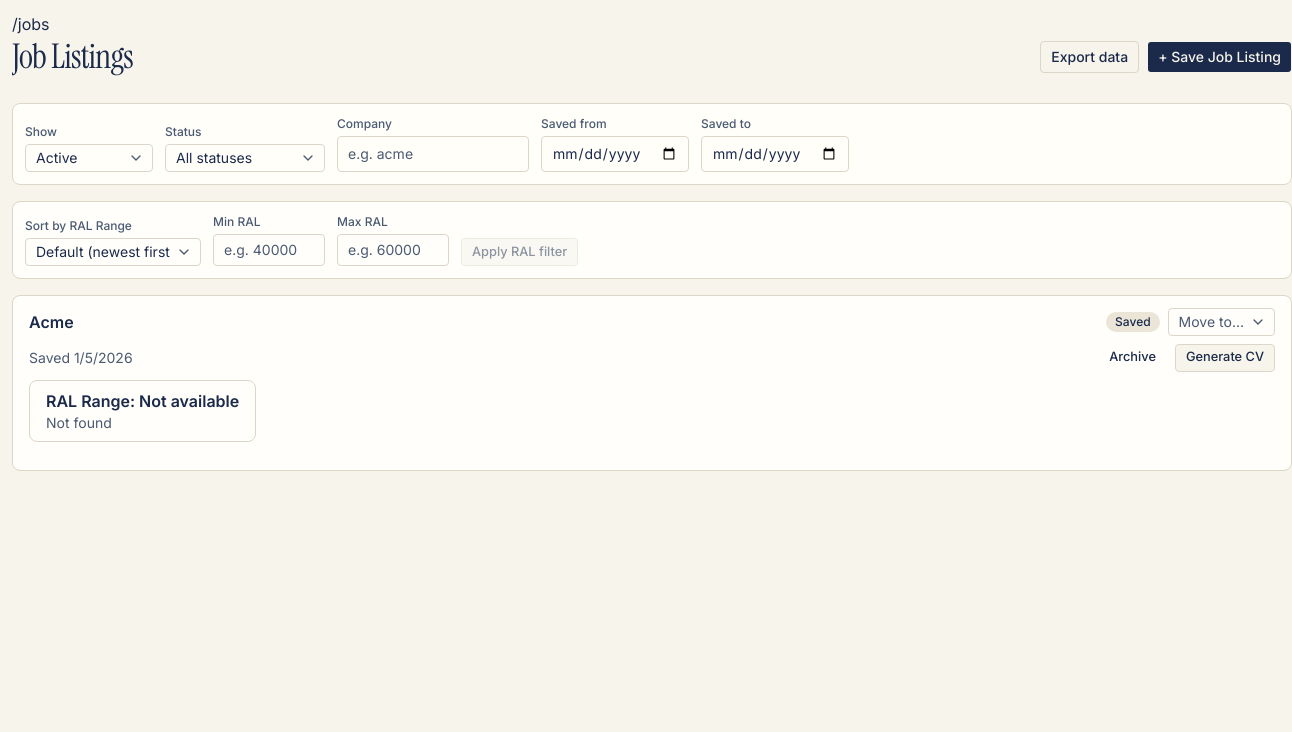
Test: Application Status transitions from the Job Listings list › StatusChange_UpdateFails_SurfacesTheErrorAndLeavesTheShownStatusUnchanged
Click the dropdown named "Move Acme to a new status" at (1221, 322), box x1=1168 y1=308 x2=1275 y2=336
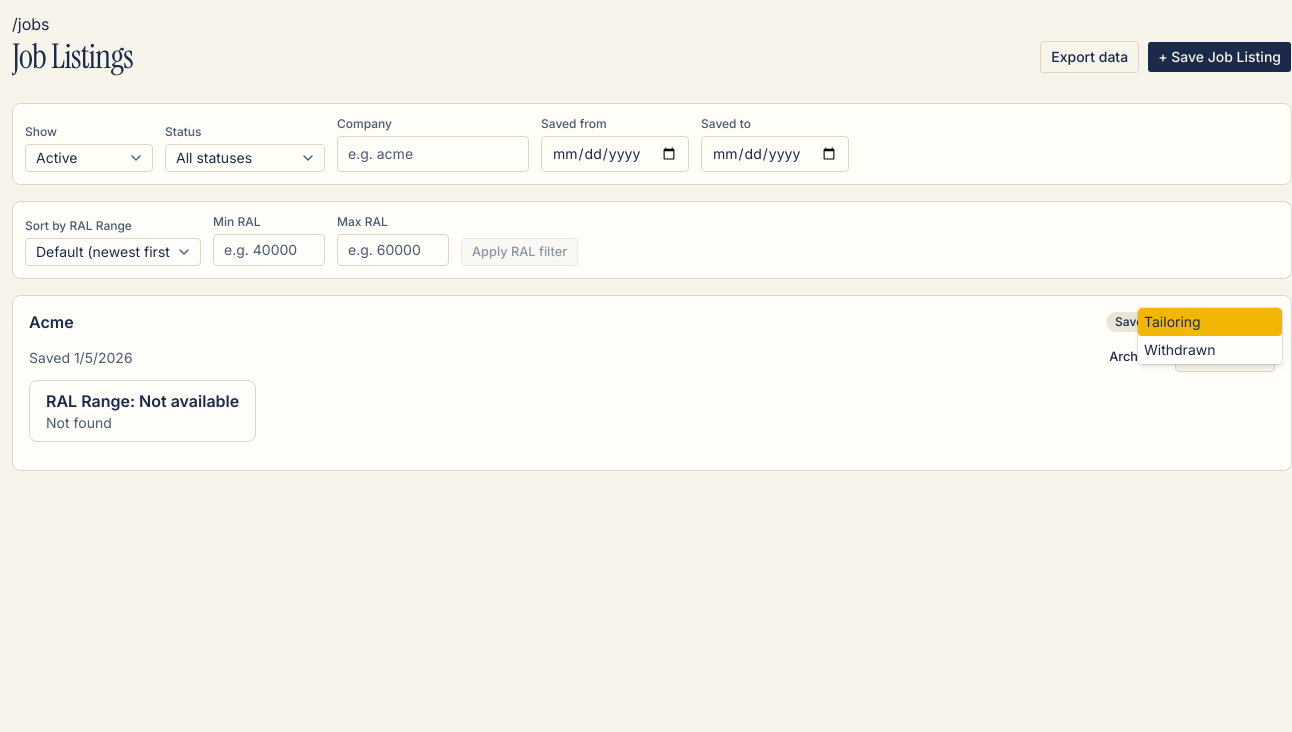
Click the option "Tailoring" at (1210, 322), box x1=1138 y1=308 x2=1282 y2=336
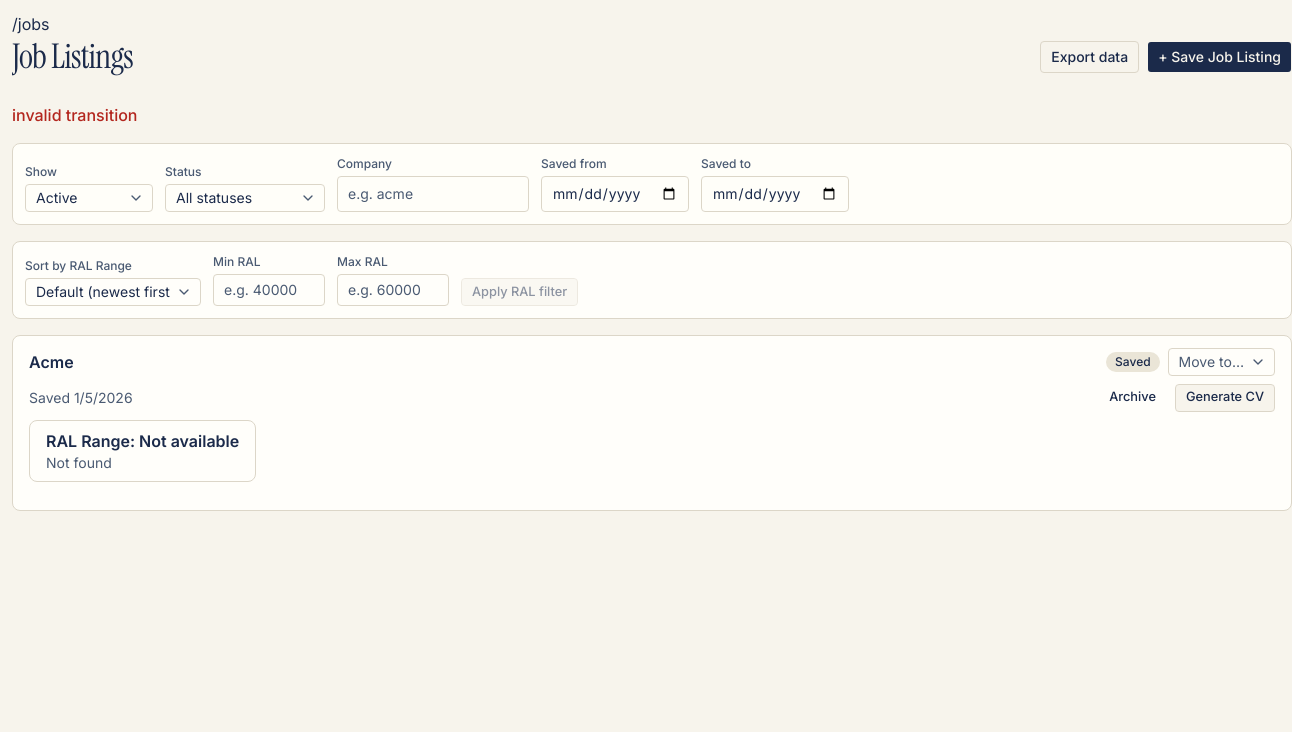
Check: the icon "Saved" is shown, box x1=1106 y1=352 x2=1160 y2=372
Check: the message reads "invalid transition", box x1=12 y1=104 x2=138 y2=124
